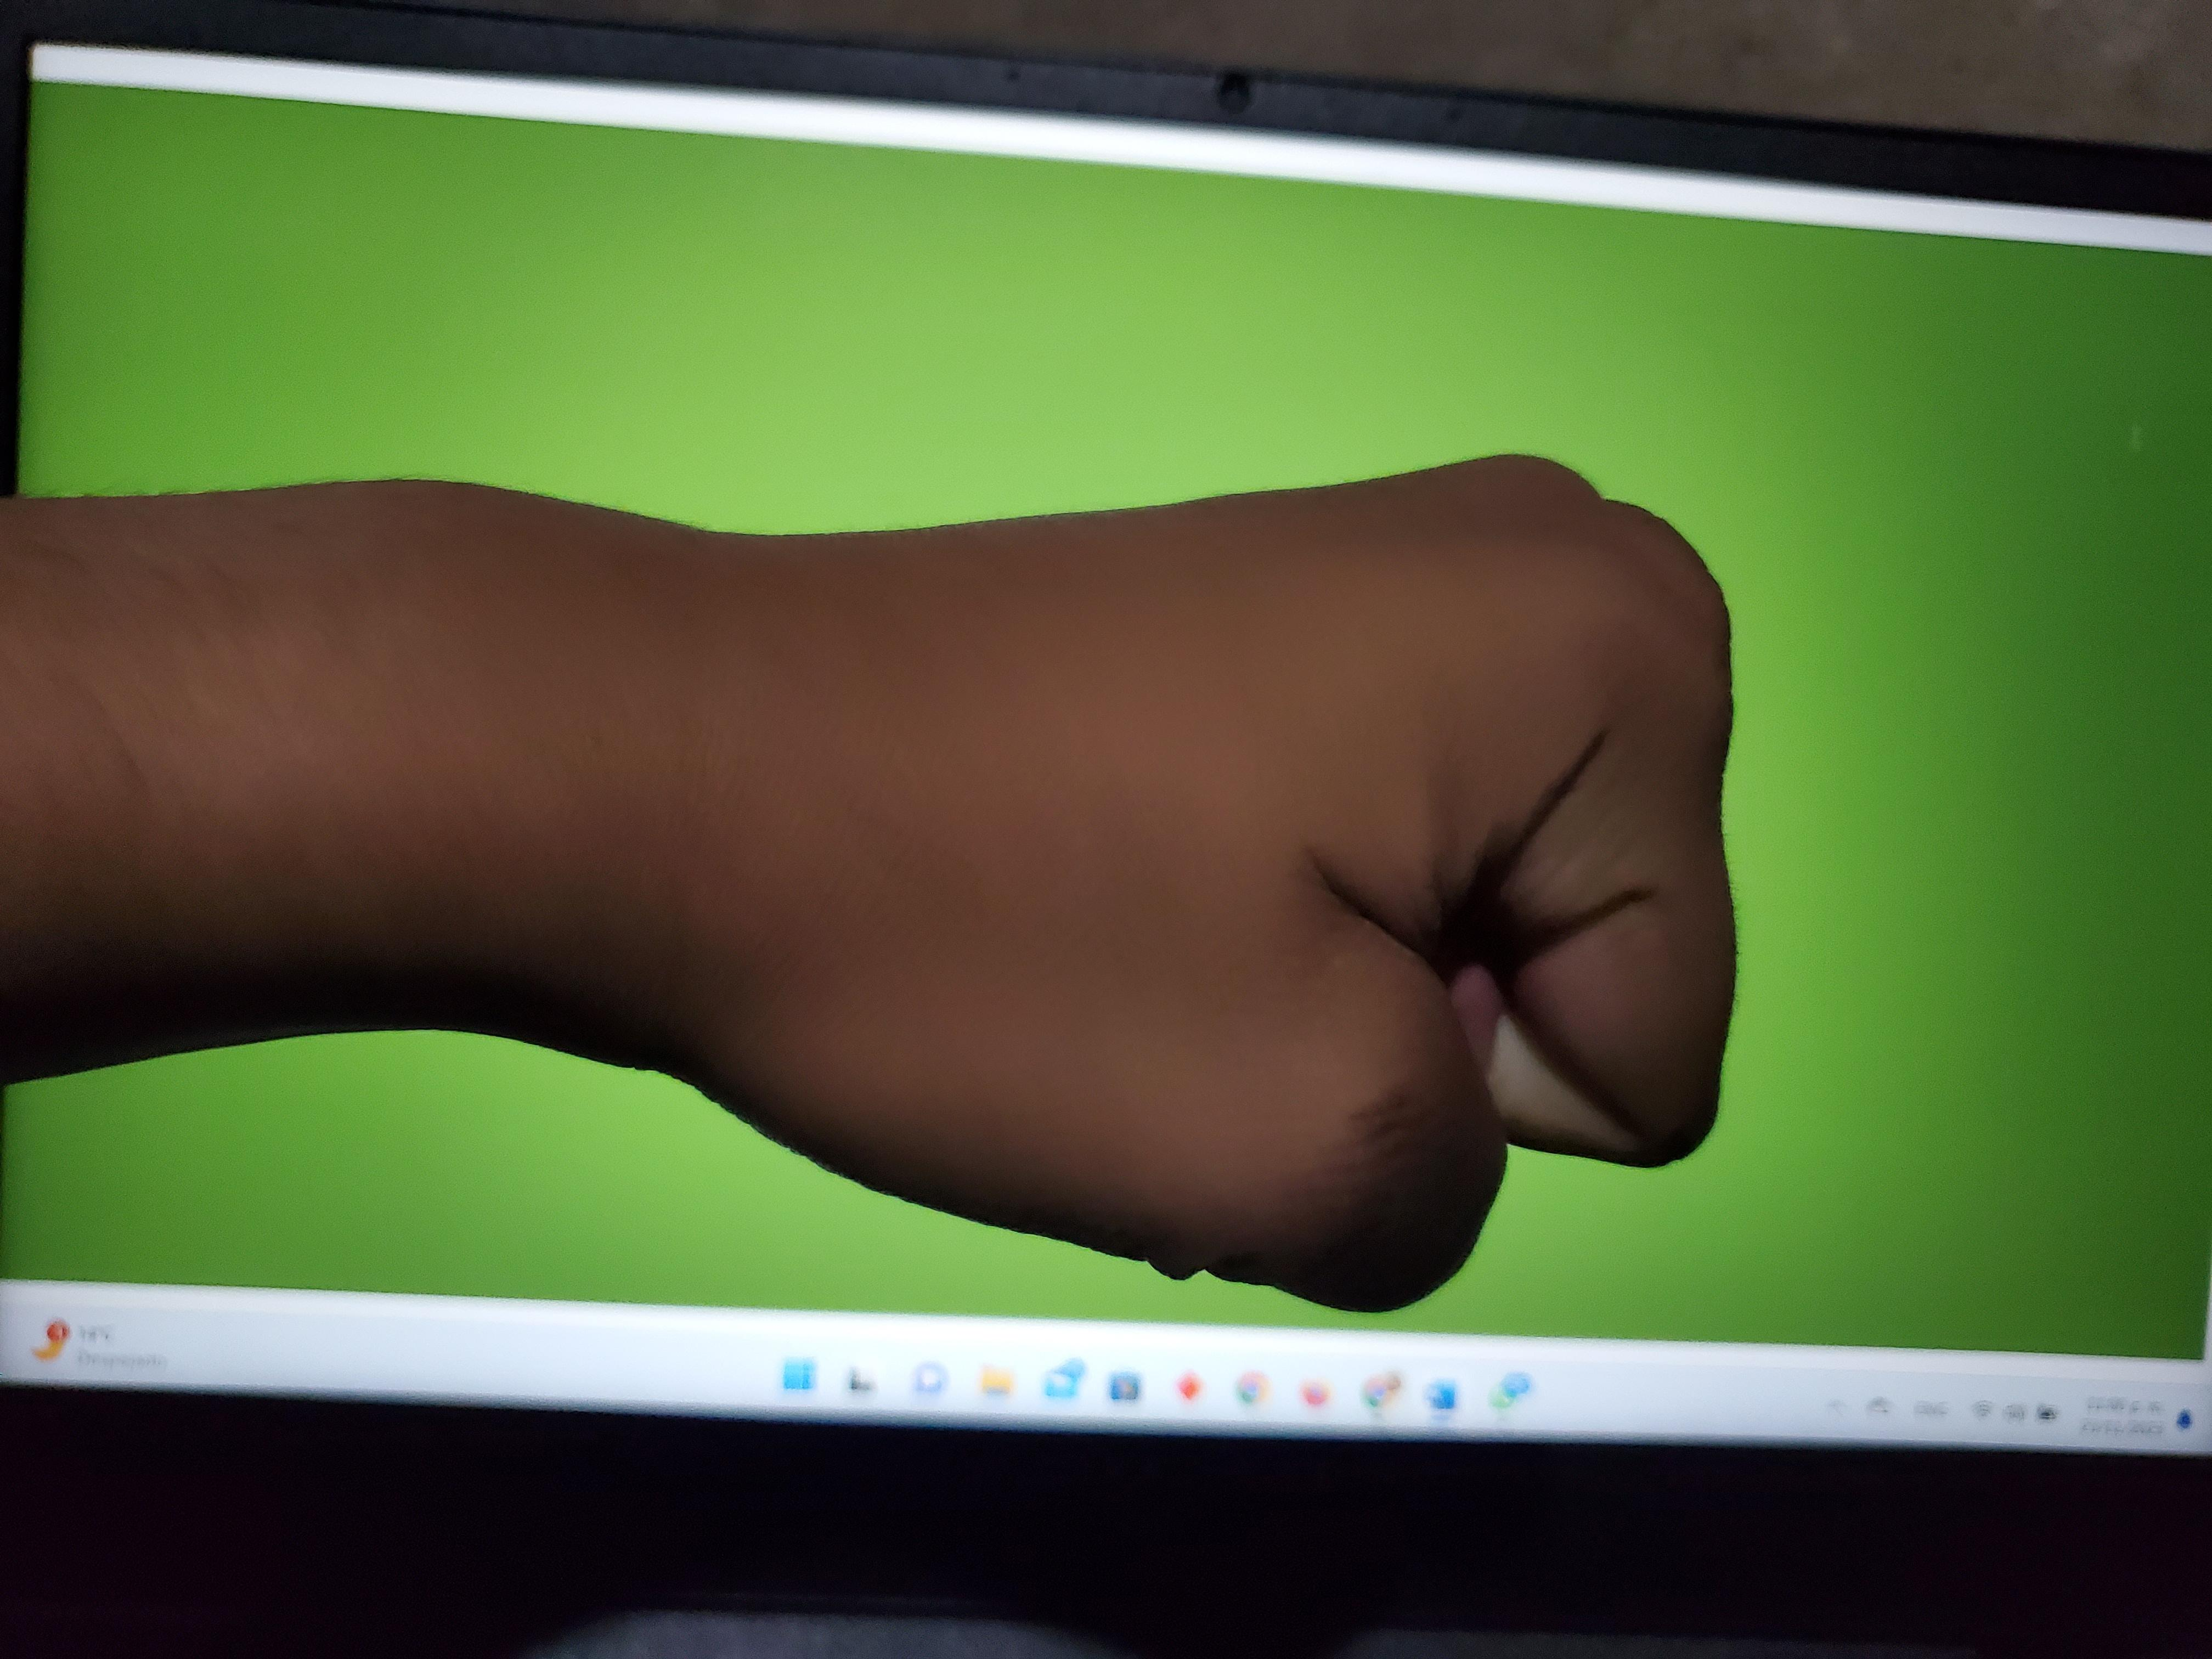Stone: (500, 138, 2055, 1500)
